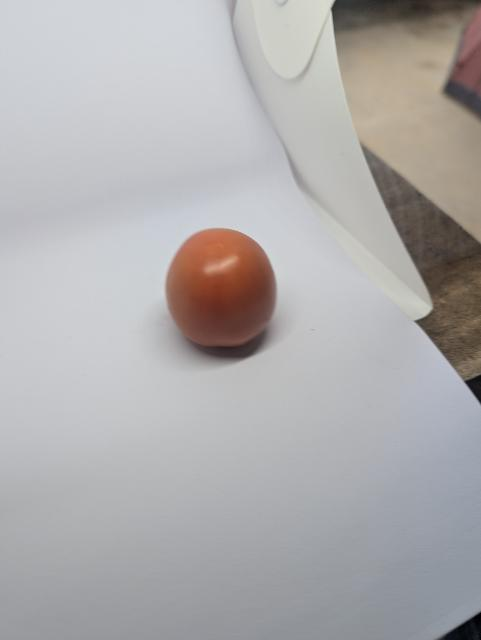red: (155, 219, 300, 358)
